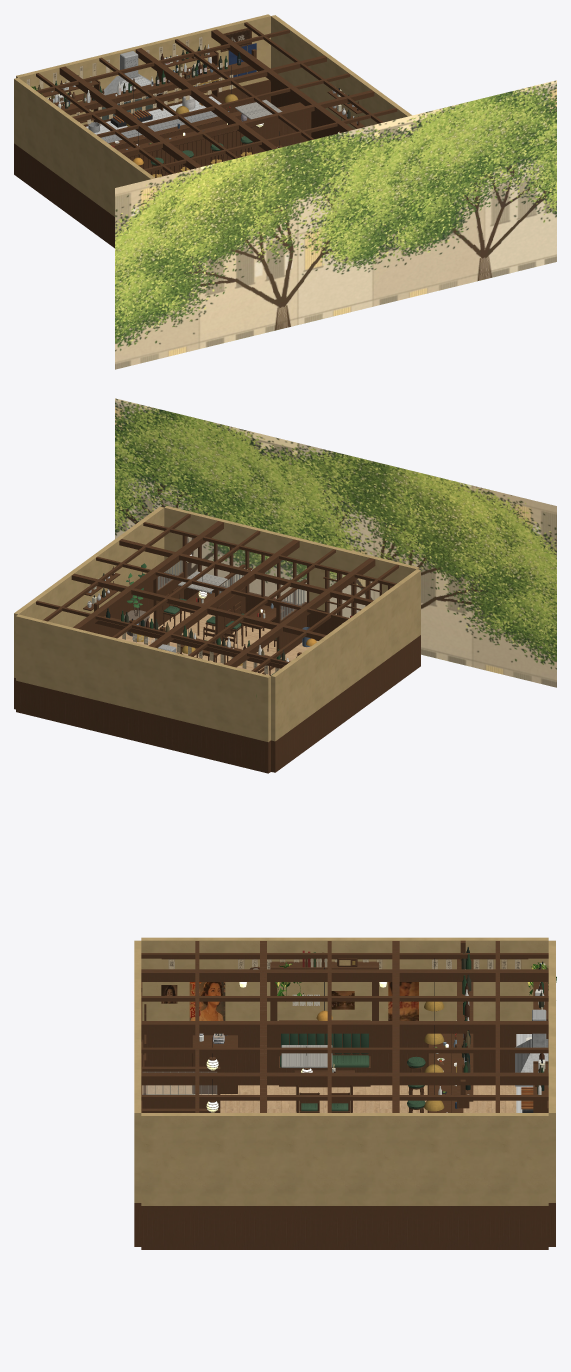
The model's file is komichi.glb.
3 views of the same model, one above another, from view 1: azimuth 30°, elevation 25°; view 2: azimuth 150°, elevation 25°; view 3: azimuth 270°, elevation 25° (orthographic). The views are drawn at different scales.
Visible parts, largest first — view 1: WALL_front_VIEW_kmc_window_view, kmc_wood, WALL_left_kmc_wall, WALL_back_kmc_wall, WALL_right_kmc_wall, kmc_vcm, WALL_left_kmc_wood, kmc_vcg, WALL_right_kmc_wood, WALL_back_kmc_wood, kmc_print, WALL_back_kmc_print (+1 smaller); view 2: WALL_front_VIEW_kmc_window_view, kmc_wood, WALL_back_kmc_wall, WALL_left_kmc_wall, WALL_back_kmc_wood, WALL_front_kmc_wall, WALL_right_kmc_wall, WALL_left_kmc_wood, WALL_front_kmc_wood, WALL_front_kmc_glass, kmc_floor, kmc_vcg (+4 smaller); view 3: WALL_right_kmc_wall, kmc_wood, WALL_right_kmc_wood, WALL_left_kmc_wall, WALL_left_kmc_wood, kmc_floor, WALL_left_kmc_print, kmc_vcg, kmc_vc_leather, kmc_vcm, WALL_back_kmc_wall, WALL_front_kmc_wall (+3 smaller).
Part boxes in pixels (x1,y1,x2,y2): WALL_front_VIEW_kmc_window_view: [115, 80, 556, 369]; kmc_wood: [36, 22, 397, 177]; WALL_left_kmc_wall: [14, 77, 155, 216]; WALL_back_kmc_wall: [16, 14, 270, 124]; WALL_right_kmc_wall: [271, 15, 411, 129]; kmc_vcm: [86, 51, 341, 177]; WALL_left_kmc_wood: [14, 143, 114, 248]; kmc_vcg: [35, 44, 359, 165]; WALL_right_kmc_wood: [270, 81, 364, 139]; WALL_back_kmc_wood: [83, 28, 270, 126]; kmc_print: [53, 52, 357, 124]; WALL_back_kmc_print: [26, 29, 250, 88]; WALL_front_VIEW_kmc_window_view: [115, 398, 556, 687]; kmc_wood: [36, 513, 398, 675]; WALL_back_kmc_wall: [16, 614, 270, 742]; WALL_left_kmc_wall: [271, 569, 420, 741]; WALL_back_kmc_wood: [16, 680, 270, 773]; WALL_front_kmc_wall: [164, 506, 419, 611]; WALL_right_kmc_wall: [14, 506, 164, 677]; WALL_left_kmc_wood: [271, 635, 420, 772]; WALL_front_kmc_wood: [165, 535, 392, 640]; WALL_front_kmc_glass: [187, 537, 378, 617]; kmc_floor: [117, 611, 318, 772]; kmc_vcg: [92, 560, 316, 665]; WALL_right_kmc_wall: [141, 1113, 548, 1205]; kmc_wood: [141, 940, 548, 1112]; WALL_right_kmc_wood: [141, 1206, 548, 1249]; WALL_left_kmc_wall: [141, 937, 548, 1020]; WALL_left_kmc_wood: [142, 958, 531, 1072]; kmc_floor: [142, 1085, 516, 1112]; WALL_left_kmc_print: [161, 959, 521, 1020]; kmc_vcg: [142, 947, 548, 1111]; kmc_vc_leather: [280, 1033, 425, 1111]; kmc_vcm: [212, 958, 548, 1112]; WALL_back_kmc_wall: [548, 940, 555, 1202]; WALL_front_kmc_wall: [134, 940, 141, 1202].
Bounding box in the file's own units: 14 × 5.5 × 10.66.
Materials: 22 (20 with a texture image).
